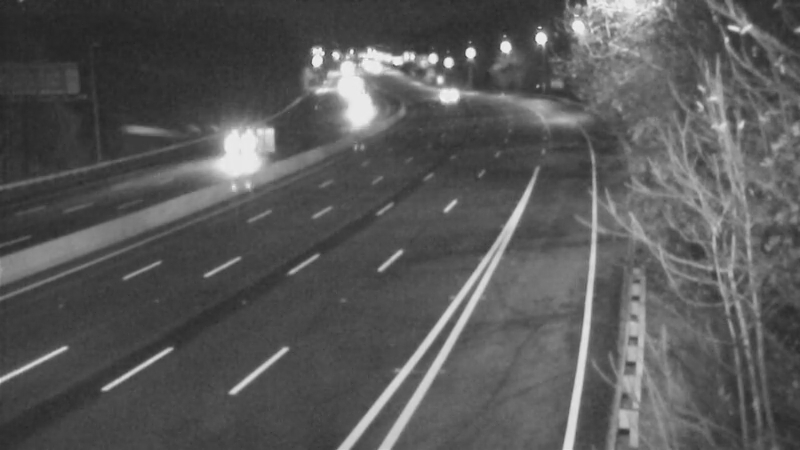vehicle: (424, 69, 474, 119), (215, 125, 265, 175), (325, 82, 375, 132)
